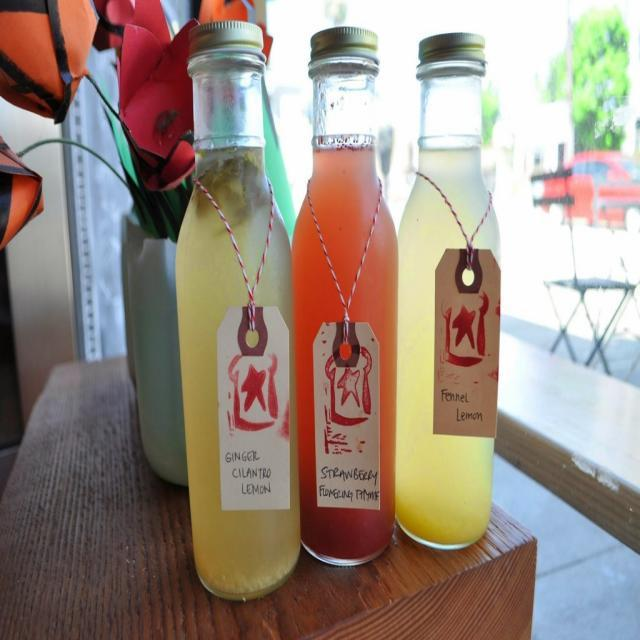Juice: (176, 132, 299, 588), (291, 136, 399, 558), (398, 133, 501, 548)
